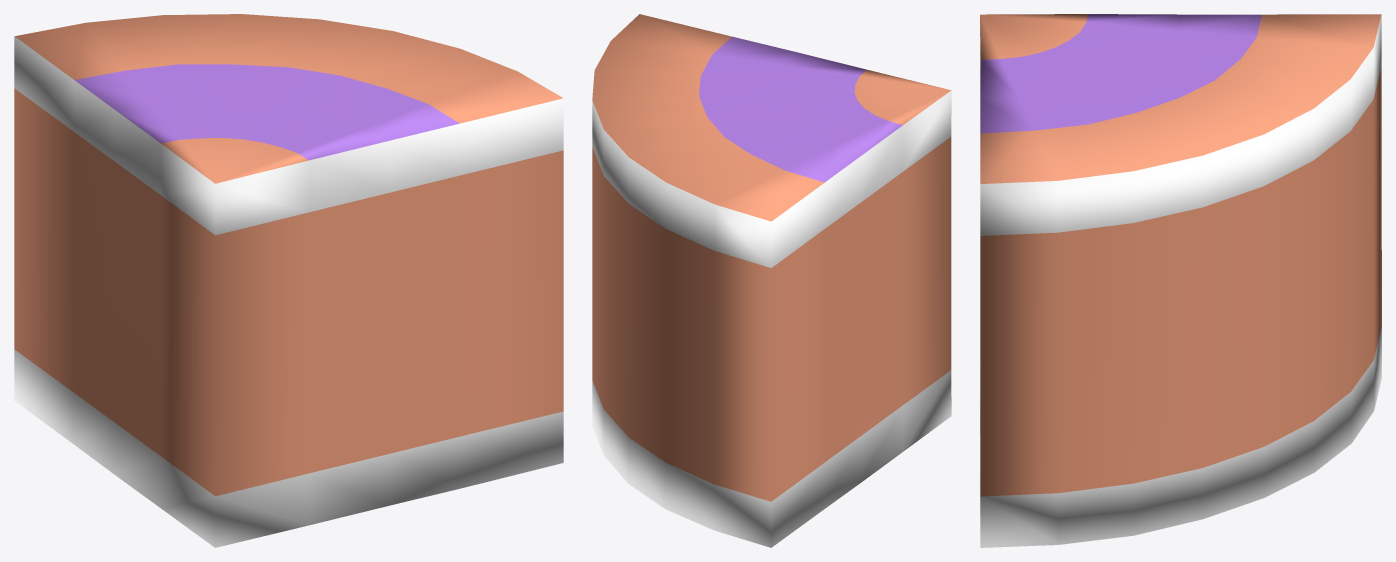
The picture shows the model from 3 angles, left to right: view 1: azimuth 30°, elevation 25°; view 2: azimuth 150°, elevation 25°; view 3: azimuth 270°, elevation 25°; orthographic projection. The views are drawn at different scales.
Visible parts, largest first — view 1: cube6; view 2: cube6; view 3: cube6.
Part boxes in pixels (box(x1,y1,x2,y2)): cube6: box(14, 14, 563, 547); cube6: box(592, 14, 951, 547); cube6: box(980, 14, 1381, 547).
Size of the model in its own units: 200 by 200 by 200.
